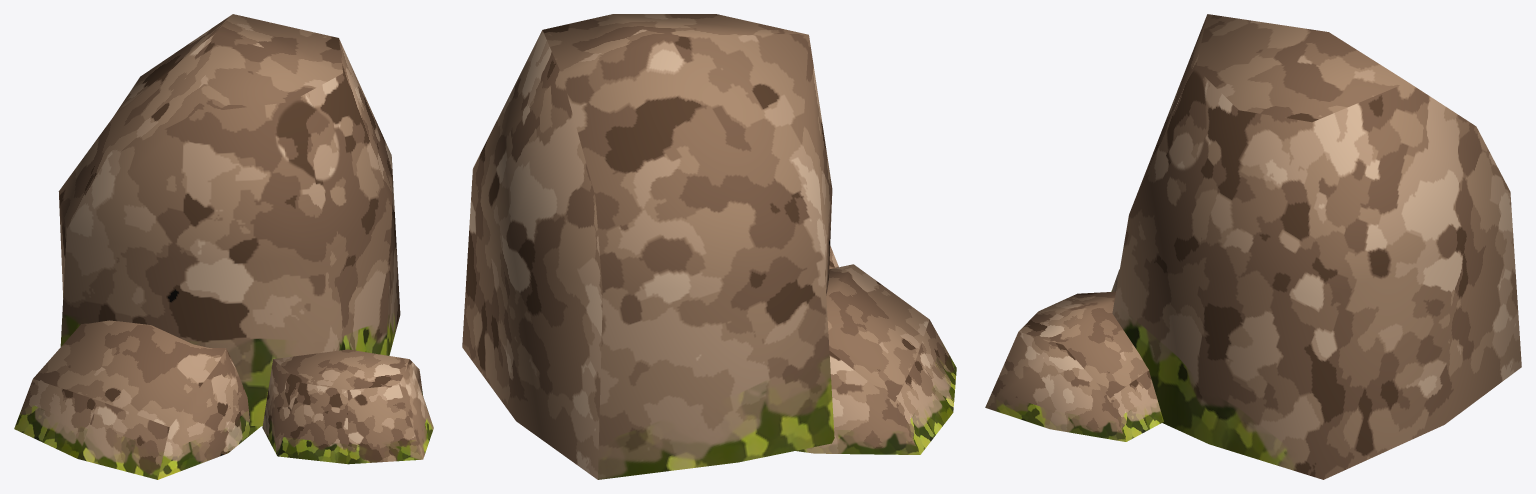
Rendered from rock_08.FBX.
The picture shows the model from 3 angles, left to right: view 1: azimuth 30°, elevation 25°; view 2: azimuth 150°, elevation 25°; view 3: azimuth 270°, elevation 25°; orthographic projection. The views are drawn at different scales.
Parts seen in each view (by area): view 1: Piedra007; view 2: Piedra007; view 3: Piedra007.
Boxes of the visible parts, <box> form: Piedra007: <box>14,14,433,479</box>; Piedra007: <box>462,14,956,479</box>; Piedra007: <box>985,14,1521,479</box>.
Bounding box in the file's own units: 1.62 × 1.74 × 1.29.
1 material, 1 textured.
